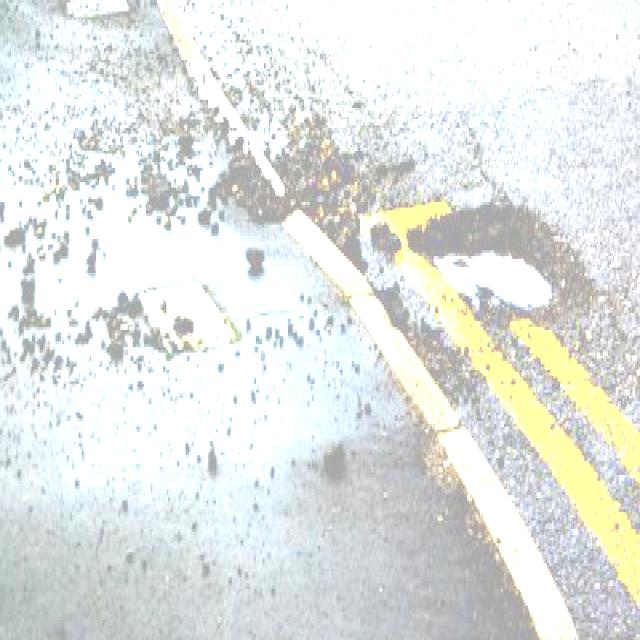Pothole: (0, 36, 592, 521)
